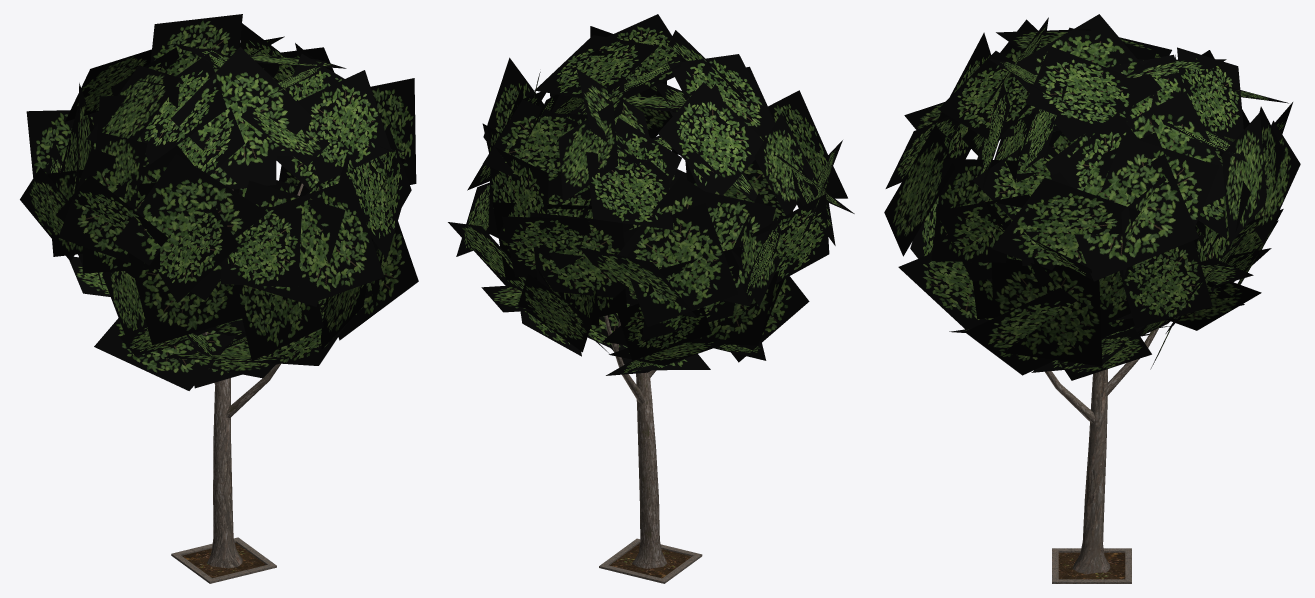
File: street-tree.glb
3 views of the same model, side by side, from view 1: azimuth 30°, elevation 25°; view 2: azimuth 150°, elevation 25°; view 3: azimuth 270°, elevation 25° (orthographic). The views are drawn at different scales.
Parts seen in each view (by area): view 1: StreetTree_Leaves, StreetTree_Bark, StreetTree_Pit; view 2: StreetTree_Leaves, StreetTree_Bark, StreetTree_Pit; view 3: StreetTree_Leaves, StreetTree_Bark, StreetTree_Pit.
Boxes of the visible parts, bbox=[...] form: StreetTree_Leaves: bbox=[20, 14, 418, 390]; StreetTree_Bark: bbox=[202, 183, 303, 568]; StreetTree_Pit: bbox=[171, 537, 276, 583]; StreetTree_Leaves: bbox=[448, 14, 854, 375]; StreetTree_Bark: bbox=[604, 315, 667, 568]; StreetTree_Pit: bbox=[599, 538, 702, 583]; StreetTree_Leaves: bbox=[884, 14, 1300, 380]; StreetTree_Bark: bbox=[1045, 328, 1159, 574]; StreetTree_Pit: bbox=[1052, 548, 1131, 583].
Bounding box in the file's own units: 7.64 × 10.92 × 7.52.
4 materials, 4 textured.
